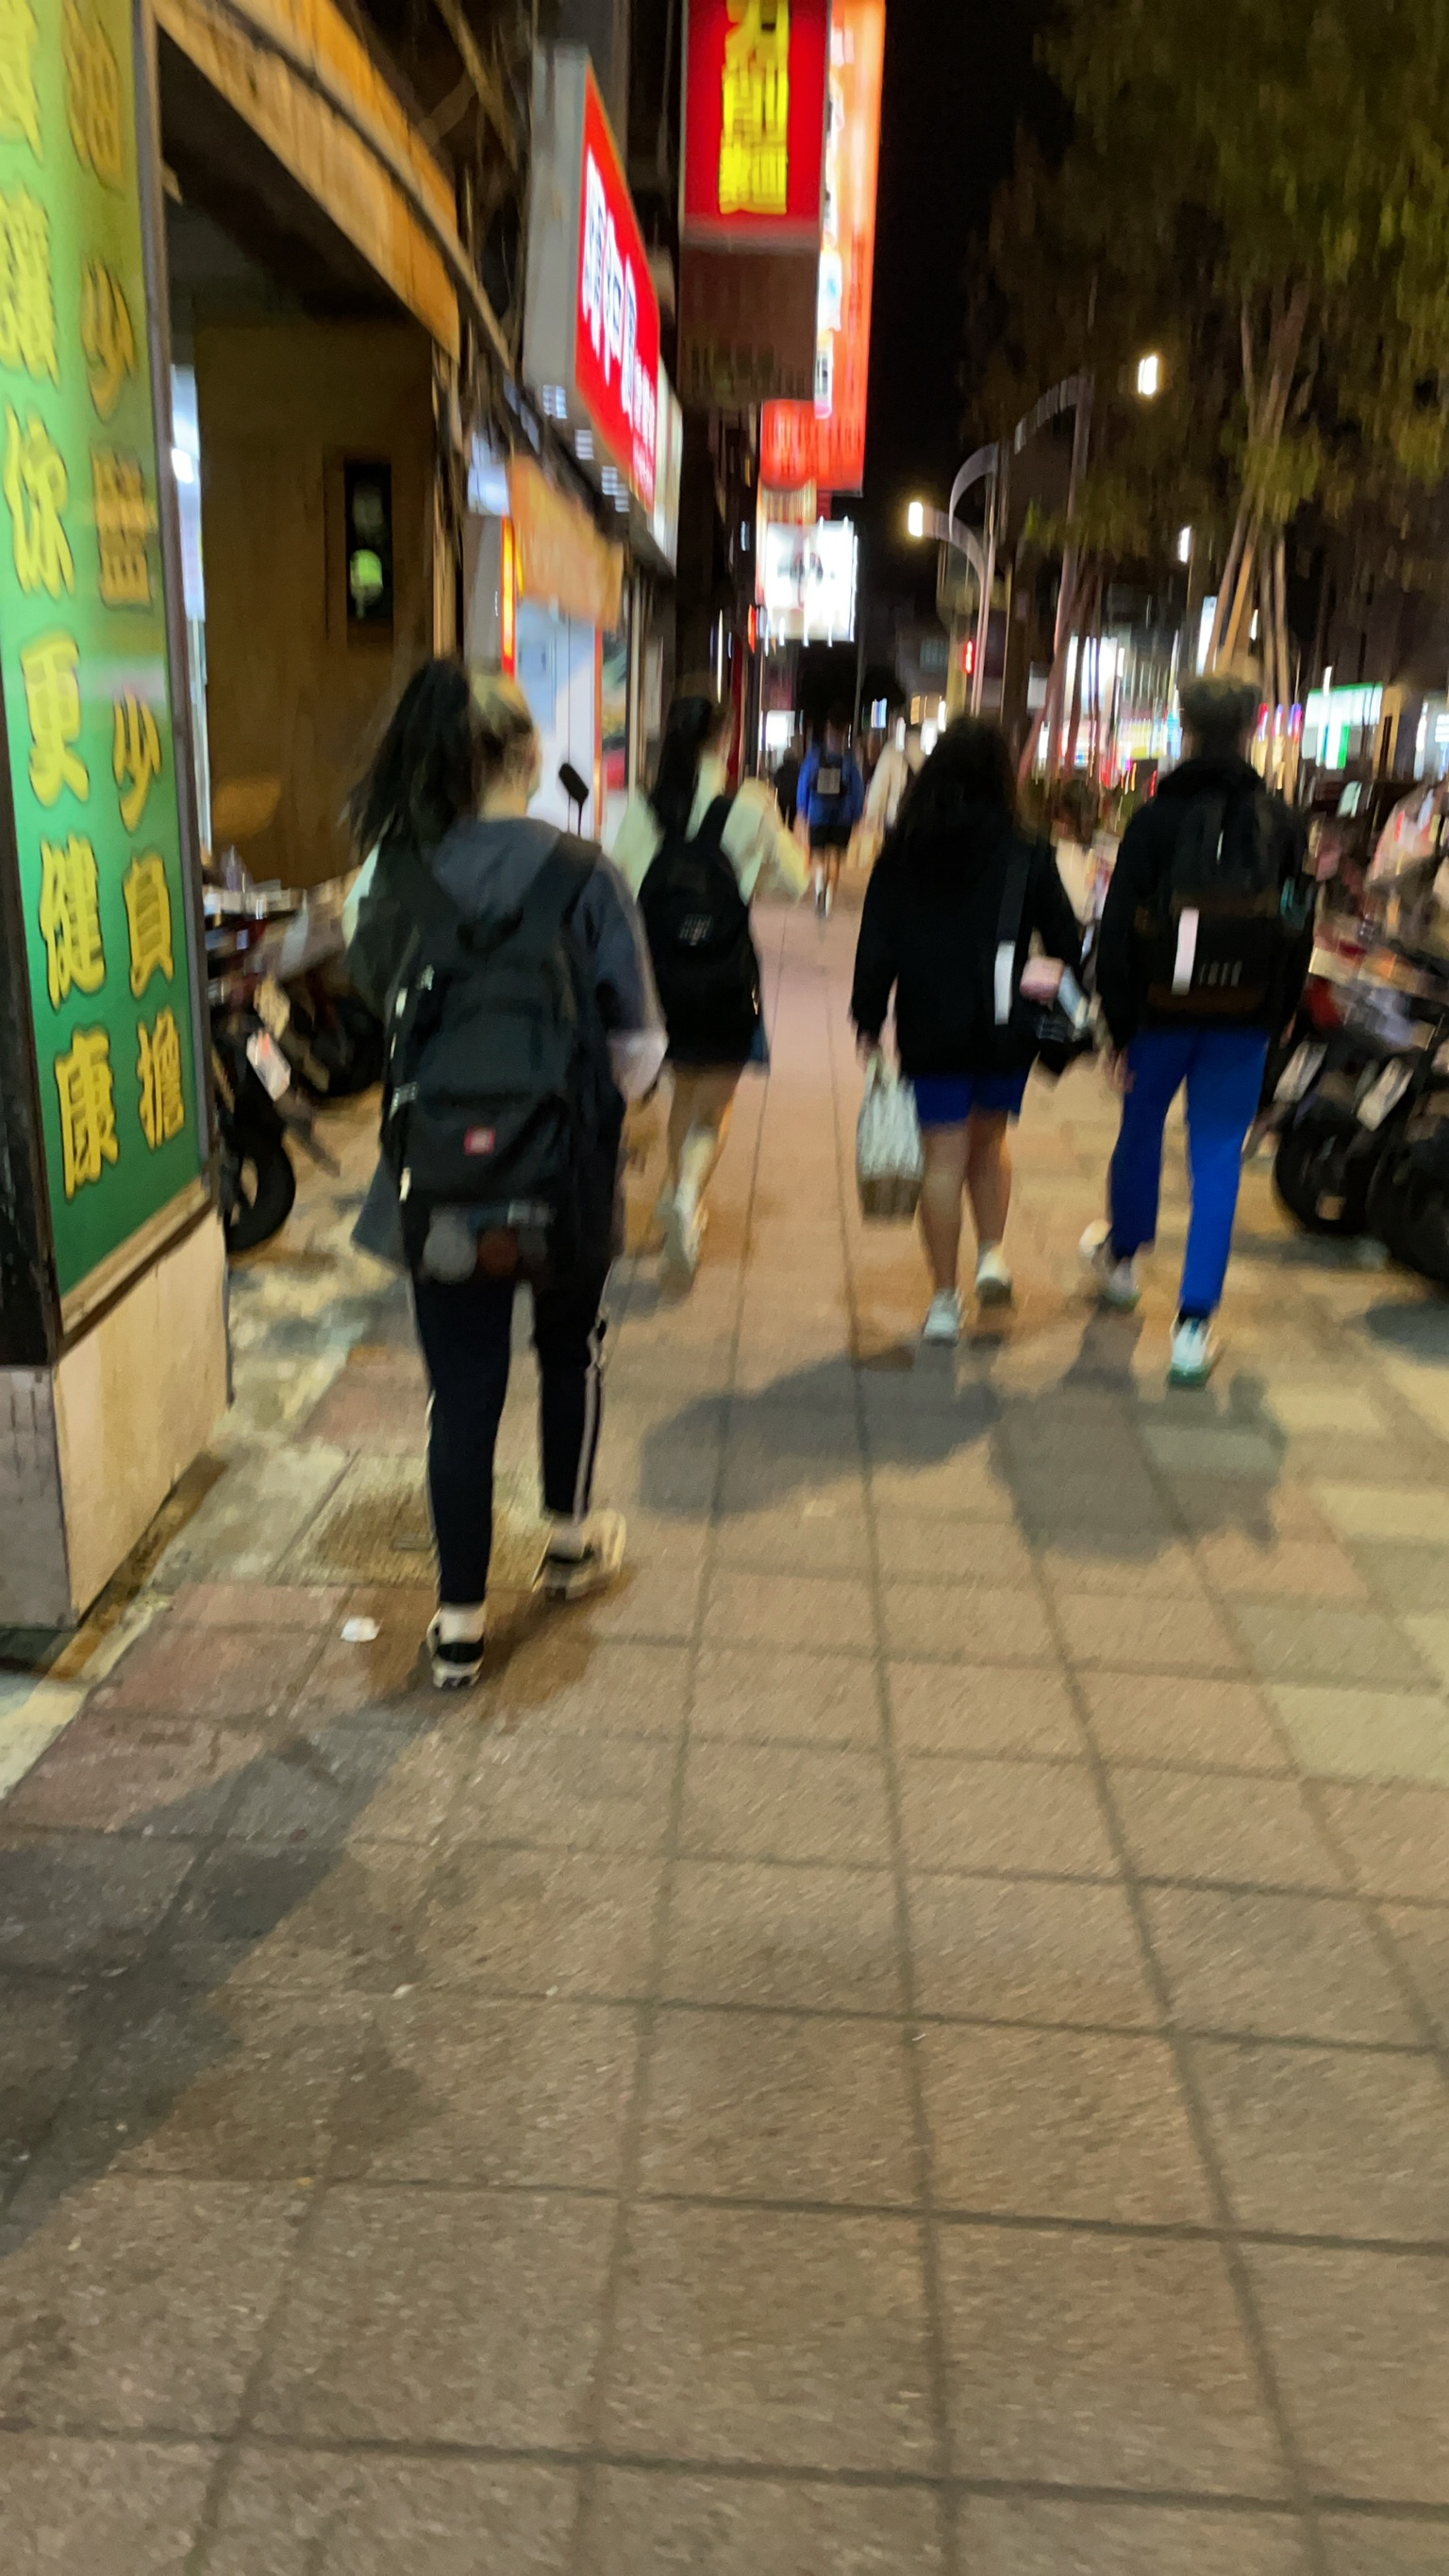people: (358, 670, 632, 1692), (1095, 686, 1308, 1388), (854, 711, 1074, 1376), (611, 686, 804, 1302)
